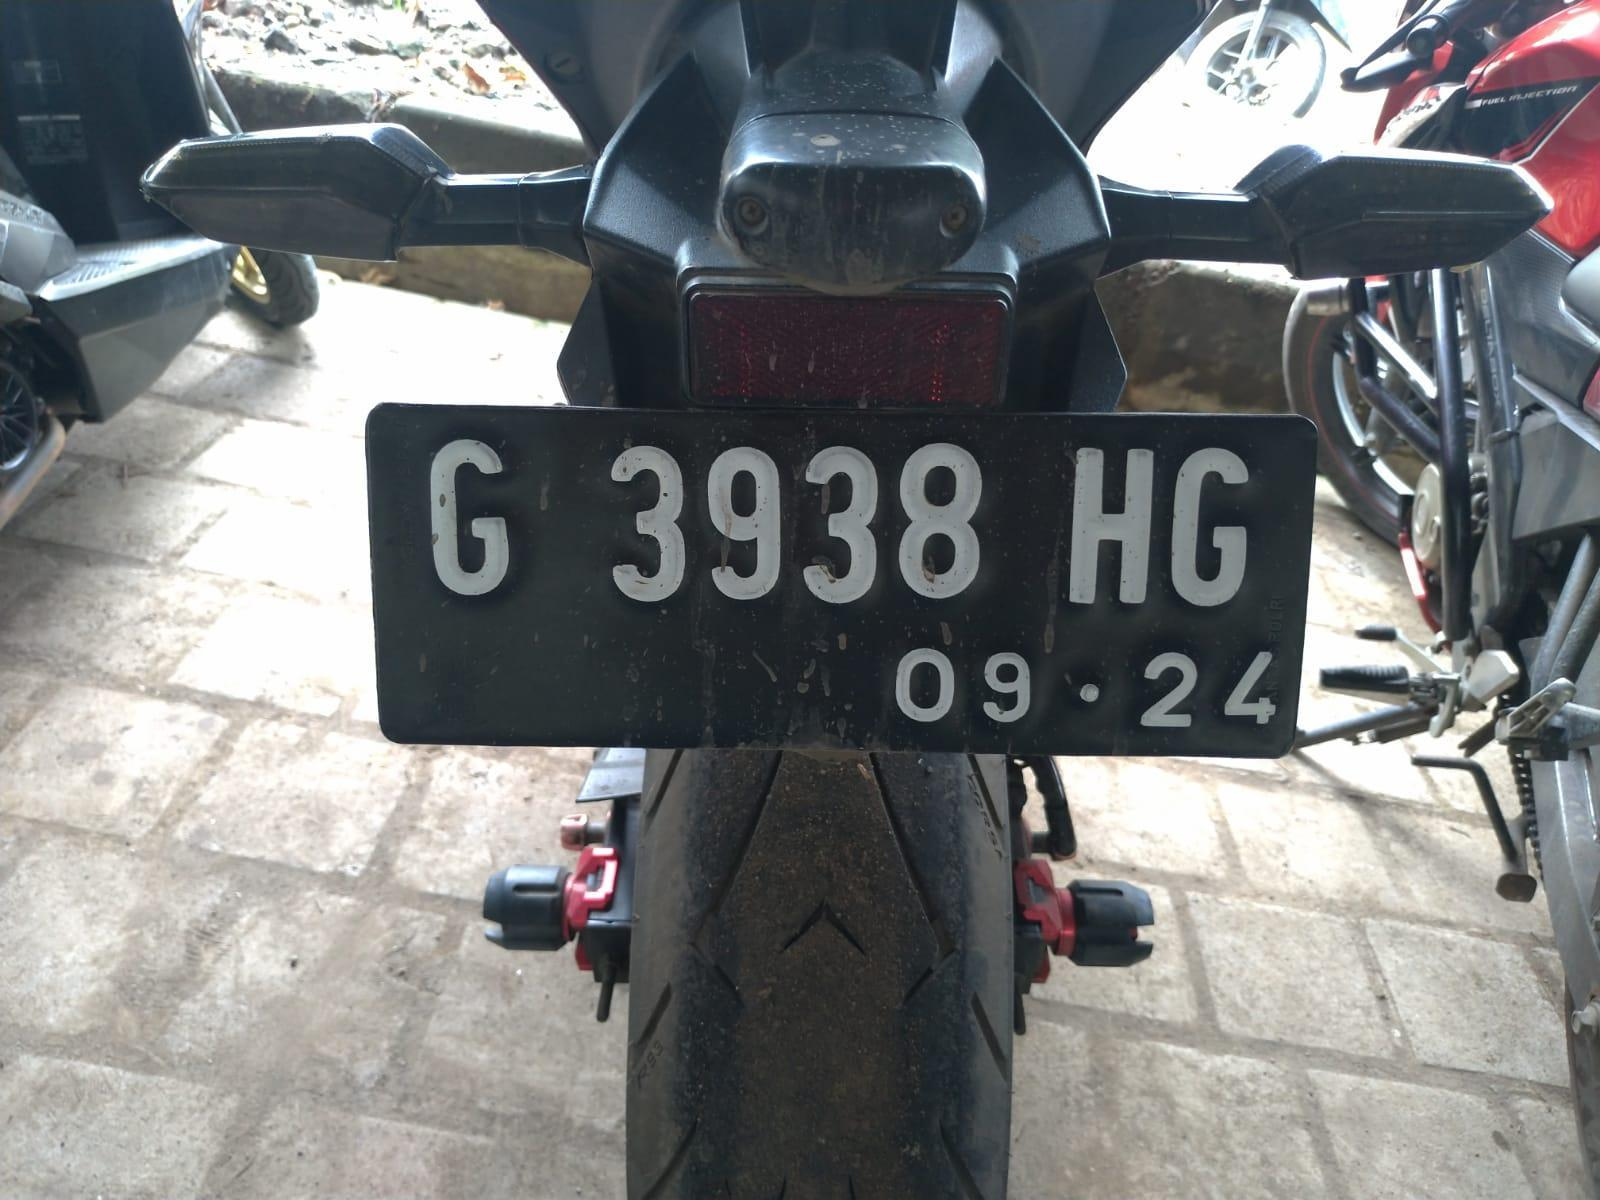clone-license-plate: (361, 400, 1310, 759)
